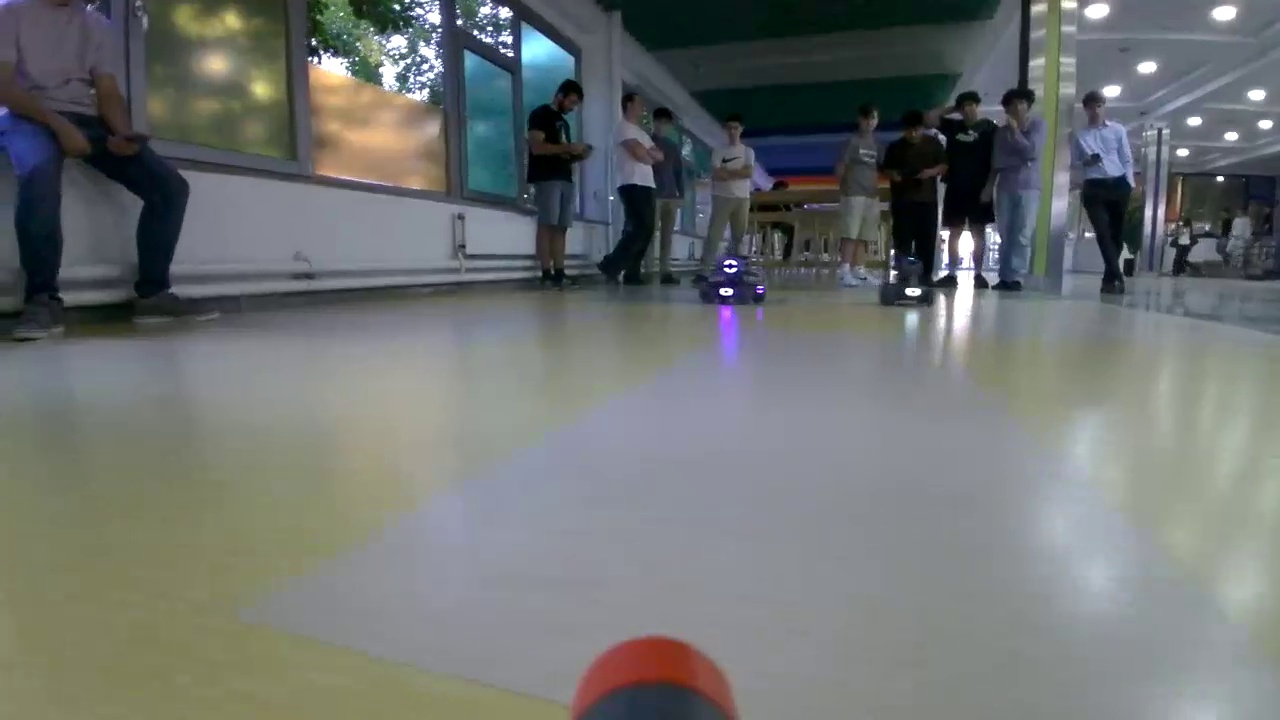robot: (698, 256, 768, 302), (882, 252, 932, 306)
